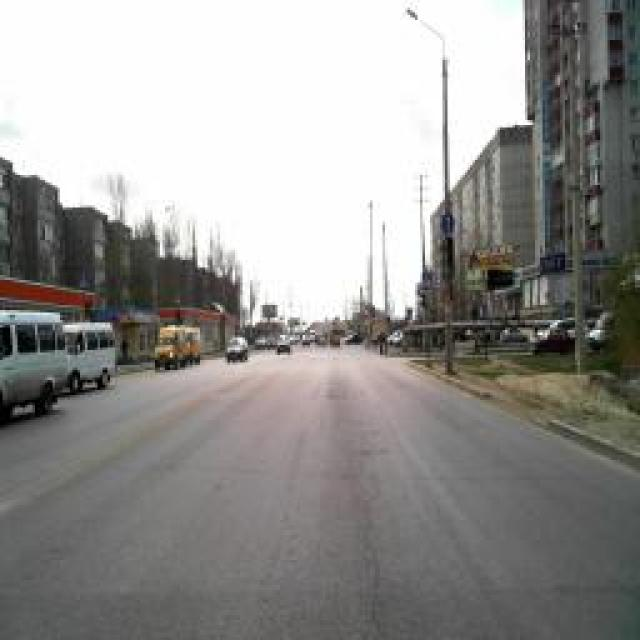sign: (440, 212, 455, 236)
